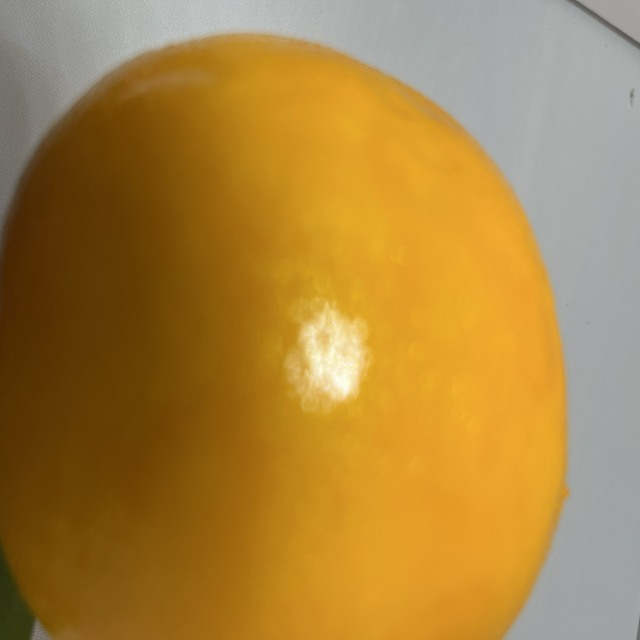Cam vang: (0, 24, 572, 640)
